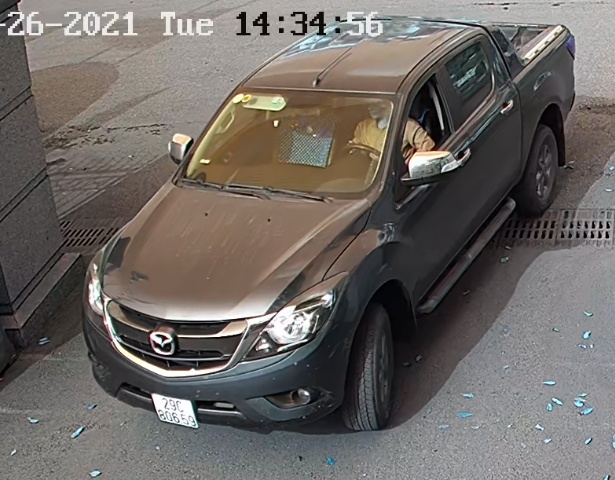vehicle plate: (148, 385, 204, 441)
